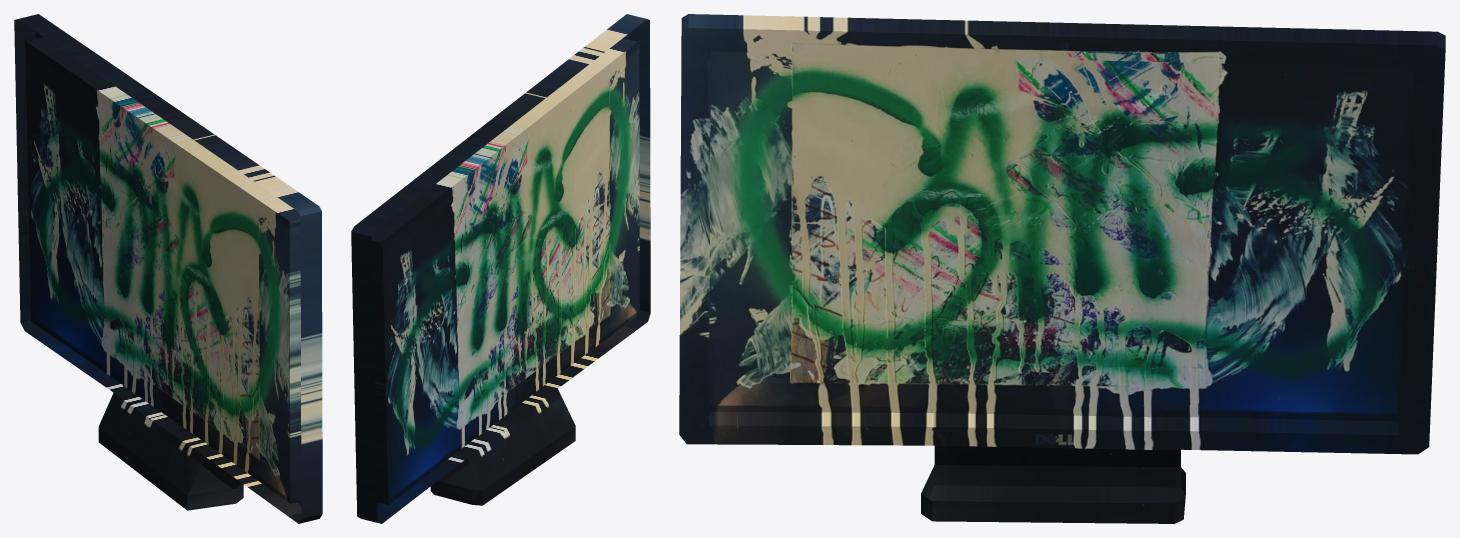
Rendered from monitor_2.glb.
3 renders of one model, left to right at view 1: azimuth 30°, elevation 25°; view 2: azimuth 150°, elevation 25°; view 3: azimuth 270°, elevation 25°, orthographic. The views are drawn at different scales.
Visible parts, largest first — view 1: Screenshot from 2023-10-19 15-50-30; view 2: Screenshot from 2023-10-19 15-50-30; view 3: Screenshot from 2023-10-19 15-50-30.
Boxes of the visible parts, x1,y1,x2,y2 form: Screenshot from 2023-10-19 15-50-30: (14,14,322,523); Screenshot from 2023-10-19 15-50-30: (351,14,650,523); Screenshot from 2023-10-19 15-50-30: (679,14,1445,523).
Size of the model in its own units: 0.1164 by 0.6797 by 0.9766.
1 material, 1 textured.
